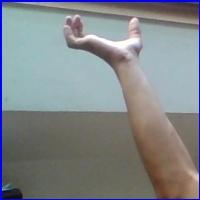space: (60, 11, 149, 71)
